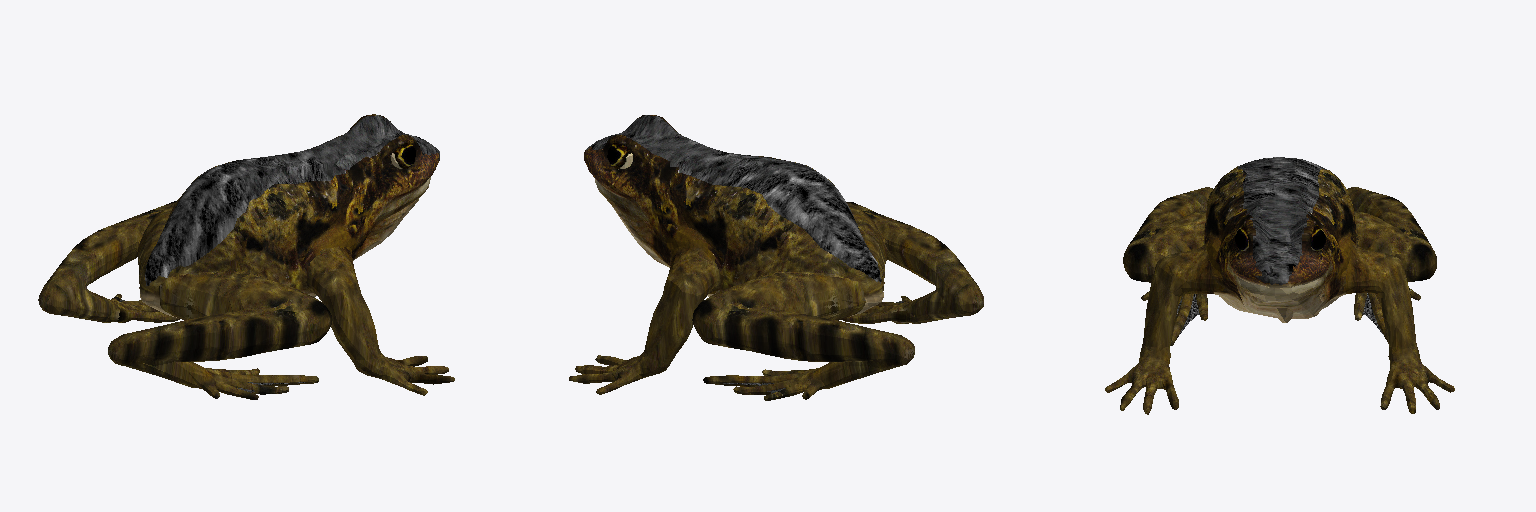
The picture shows the model from 3 angles: view 1: azimuth 30°, elevation 25°; view 2: azimuth 150°, elevation 25°; view 3: azimuth 270°, elevation 25°; orthographic projection.
Visible parts, largest first — view 1: BRMJMAIN; view 2: BRMJMAIN; view 3: BRMJMAIN.
Boxes of the visible parts, x1,y1,x2,y2 form: BRMJMAIN: [38, 114, 454, 399]; BRMJMAIN: [569, 115, 983, 400]; BRMJMAIN: [1105, 157, 1454, 414].
Bounding box in the file's own units: 1.79 × 0.9374 × 1.51.
Materials: 6 (5 with a texture image).